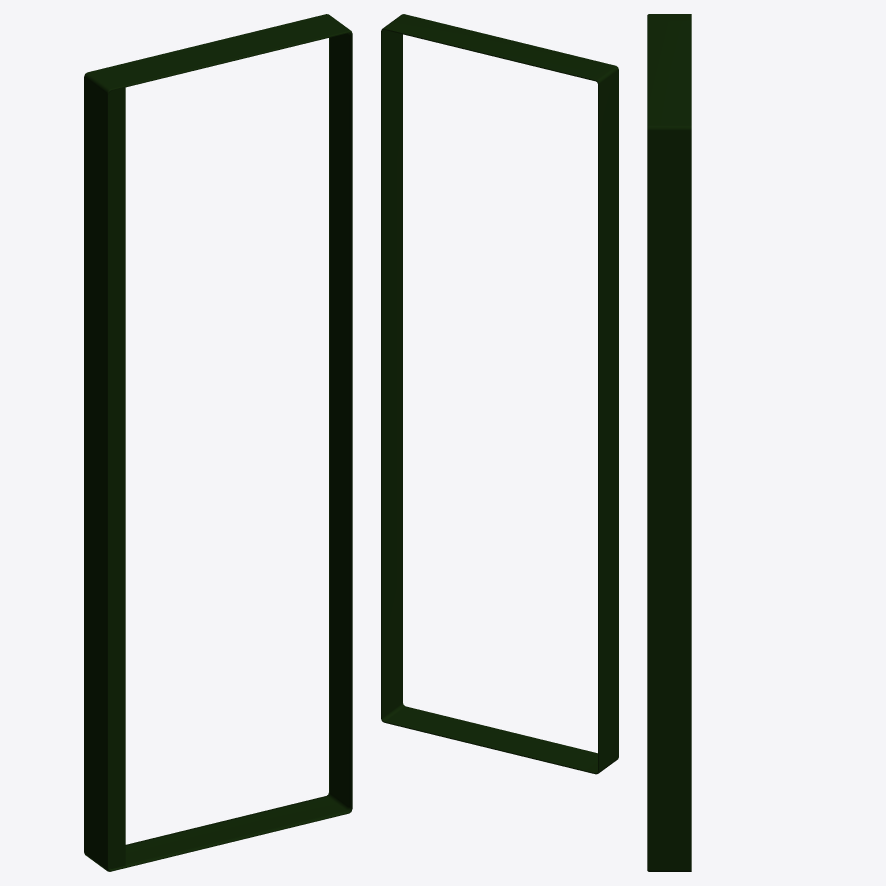
The model's file is Fridge_14_Mesh_3_4.obj.
3 renders of one model, left to right at view 1: azimuth 30°, elevation 25°; view 2: azimuth 150°, elevation 25°; view 3: azimuth 270°, elevation 25°, orthographic. The views are drawn at different scales.
Bounding box in the file's own units: 0.5924 × 1.91 × 0.4905.
